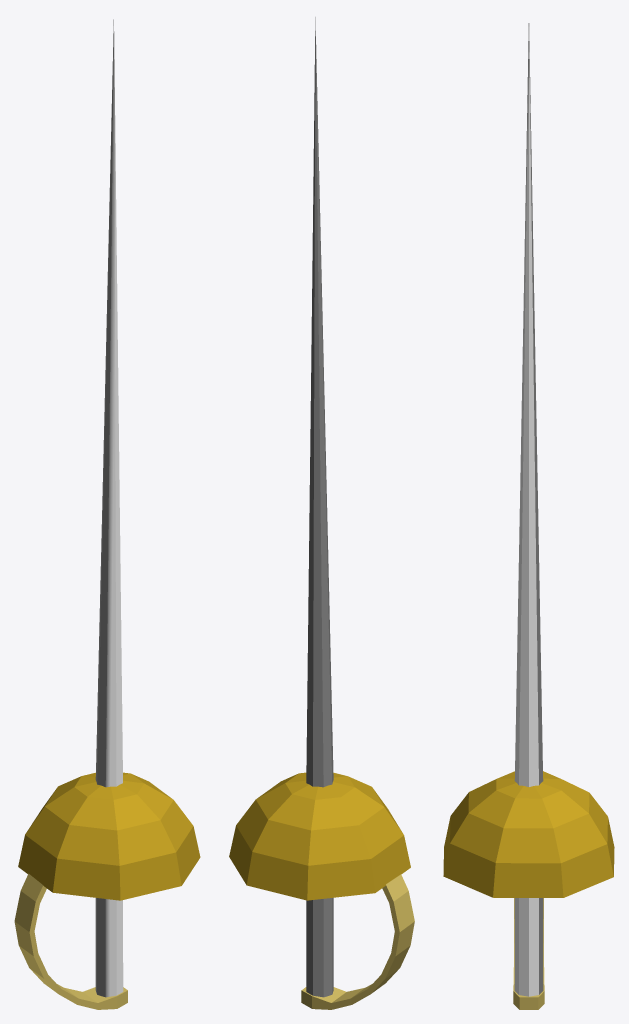
Rendered from kiemngulam.fbx.
The picture shows the model from 3 angles, left to right: view 1: azimuth 30°, elevation 25°; view 2: azimuth 150°, elevation 25°; view 3: azimuth 270°, elevation 25°; orthographic projection.
Parts seen in each view (by area): view 1: kiemngulam; view 2: kiemngulam; view 3: kiemngulam.
Boxes of the visible parts, <box> form: kiemngulam: <box>14,19,200,1009</box>; kiemngulam: <box>229,17,414,1009</box>; kiemngulam: <box>443,23,614,1009</box>.
Size of the model in its own units: 0.9958 by 5.84 by 0.9125.
